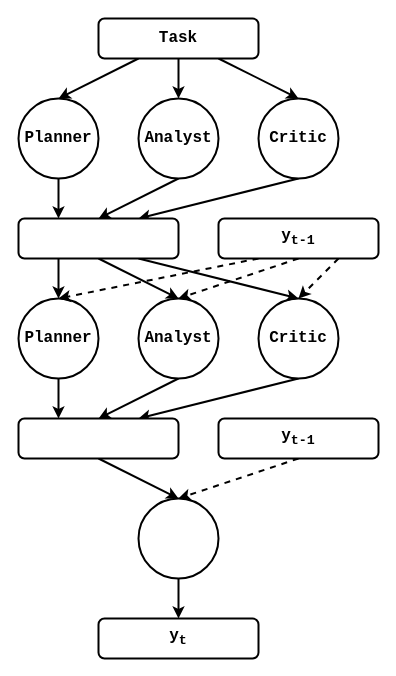
This 396x676 diagram has some shape labels left out. The centre of each missing label's shape, as x and y in pixels:
Stage-1 output: [98,238]
Stage-2 output: [98,438]
Writer: [178,538]
